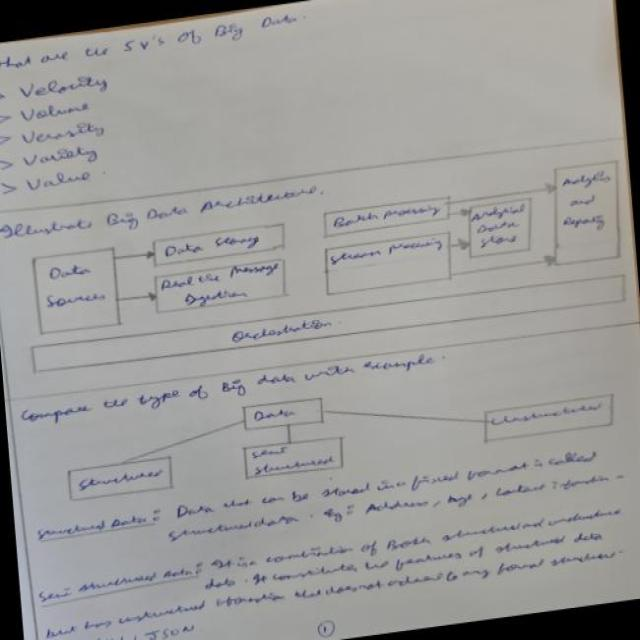Figure Detection - v3 Dataset Version2: (17, 152, 640, 386), (45, 344, 633, 516)
